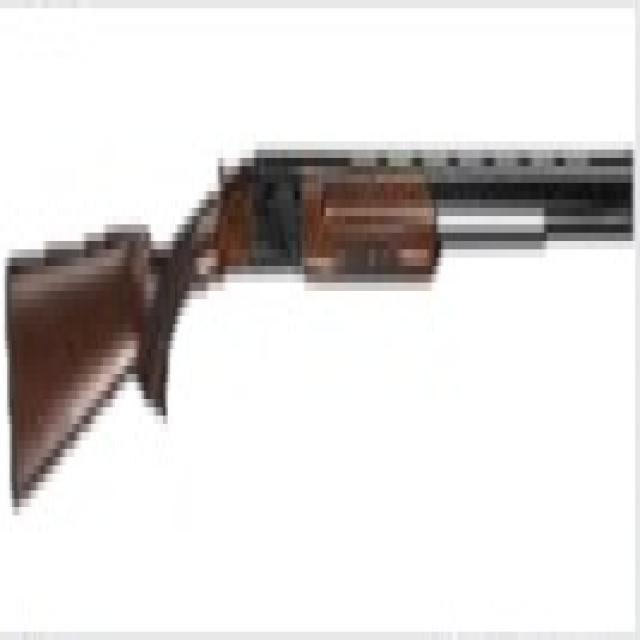rifle: (1, 124, 638, 540)
